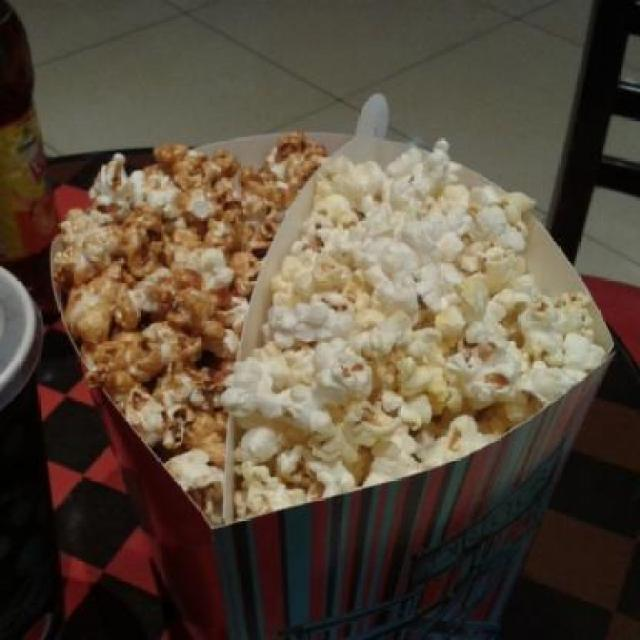Popcorn: (49, 128, 608, 528)
